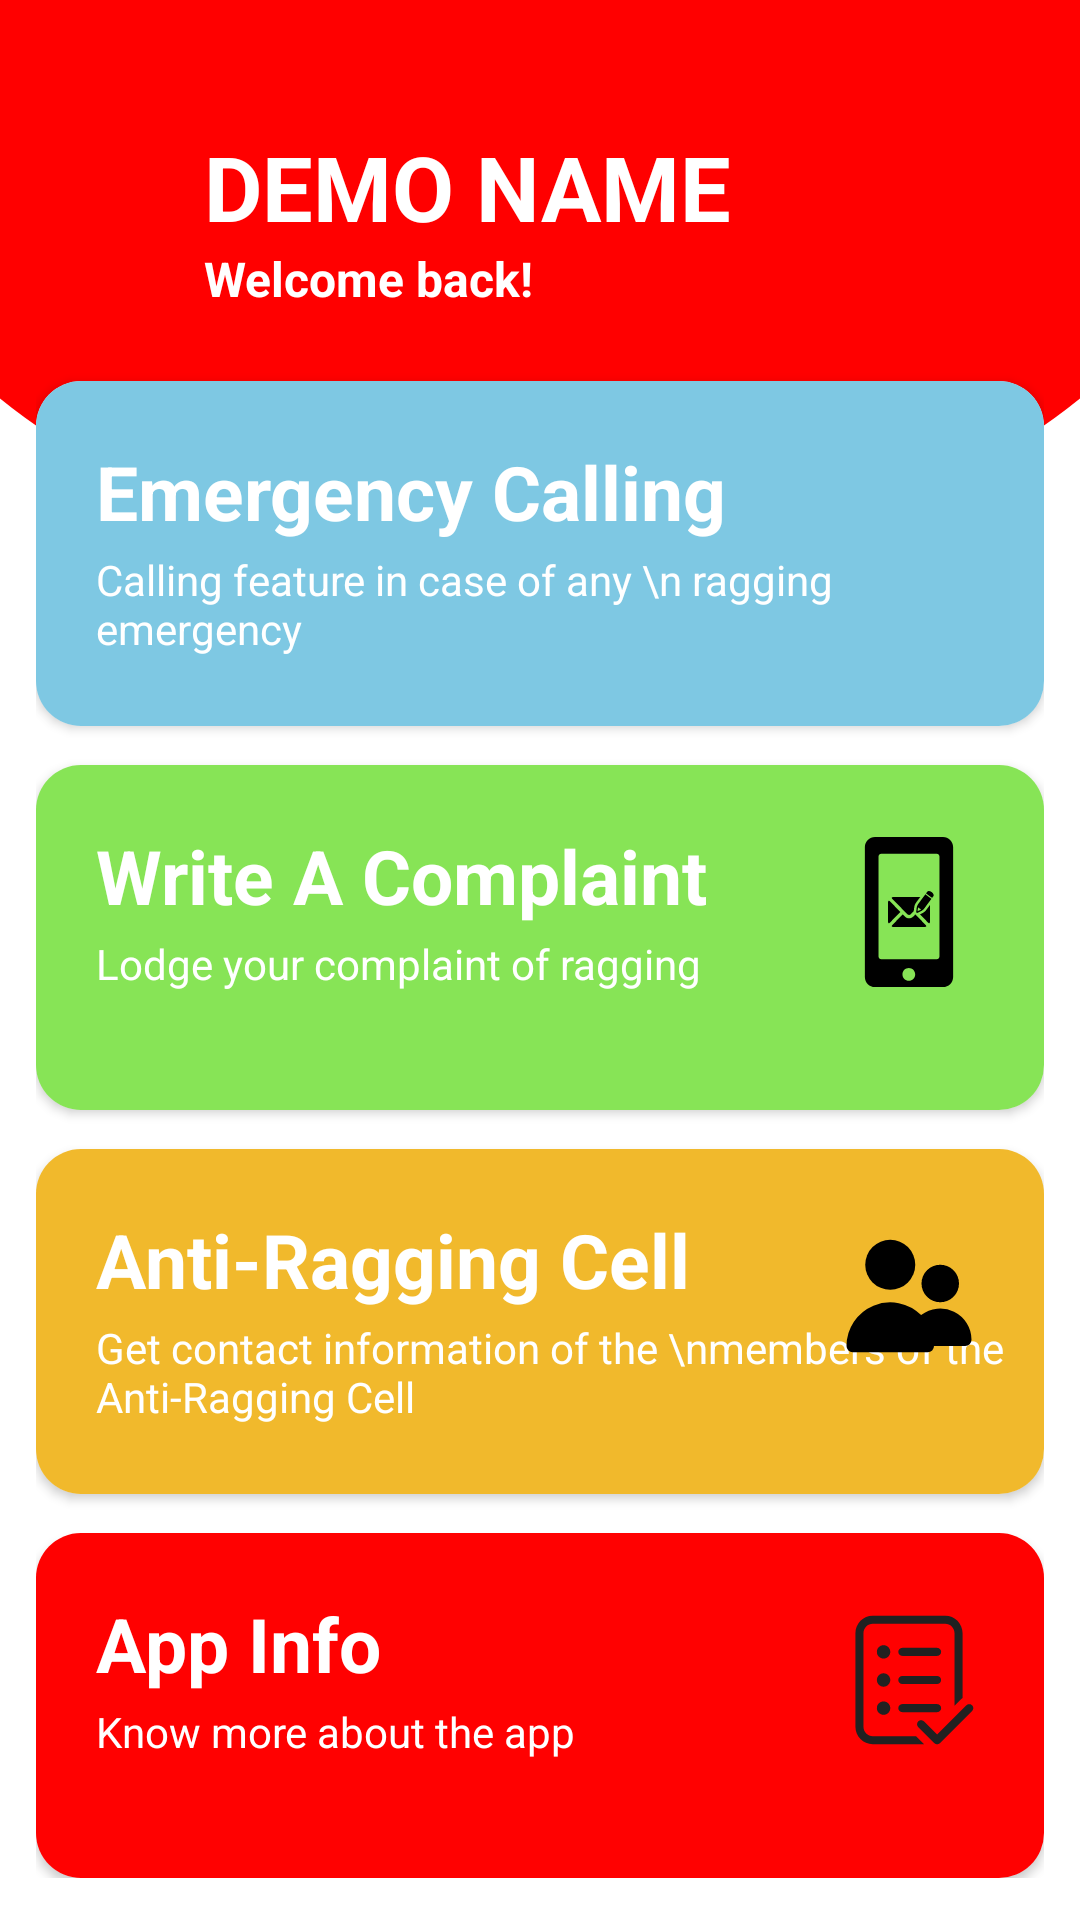

Icons on this 1080×1920 Android screen, each with its box as (x1, y1, x2, y2):
tasks app: (855, 1615, 974, 1745)
